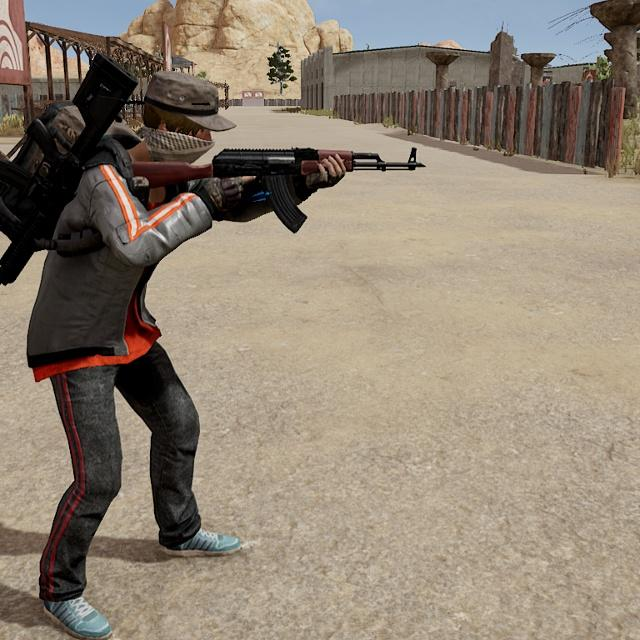head: (109, 55, 232, 189)
people: (0, 55, 287, 640)
